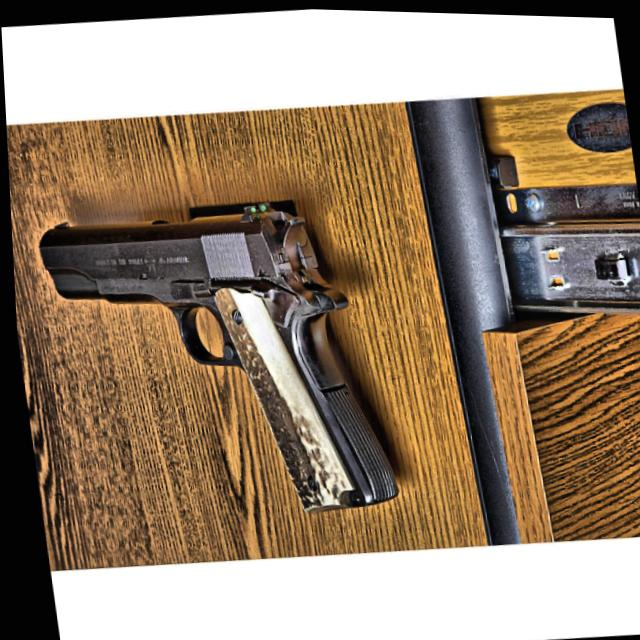pistol: (34, 177, 400, 536)
